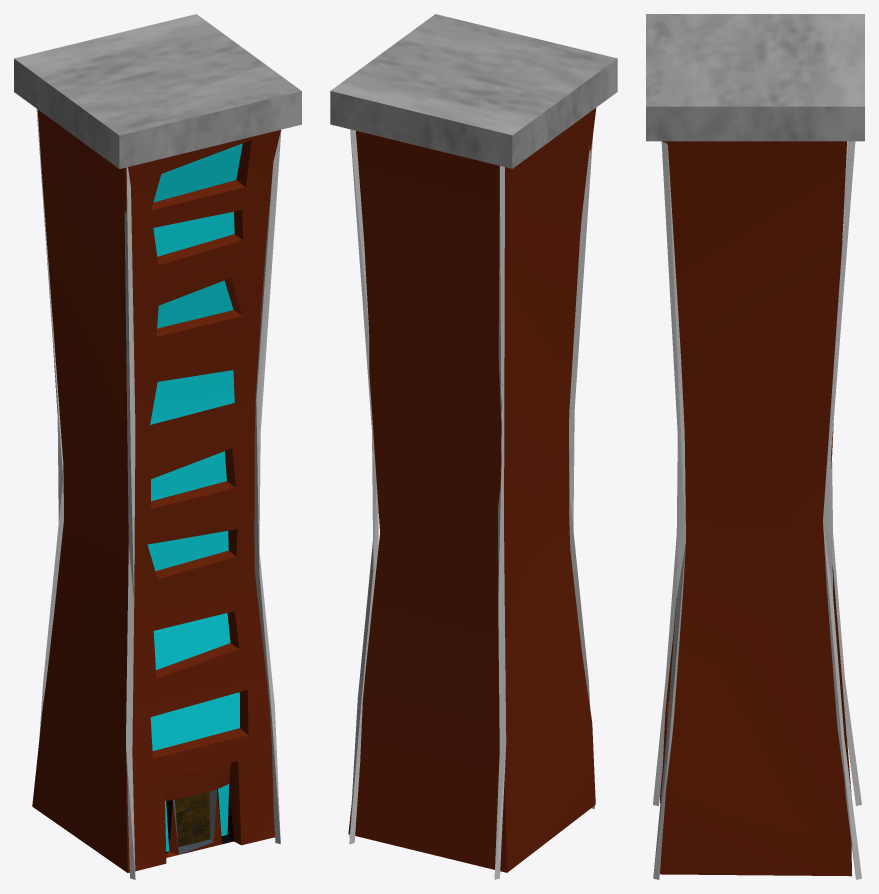
File: PredioAltoFino-VermelhoEscuroLOD1.fbx
3 renders of one model, left to right at view 1: azimuth 30°, elevation 25°; view 2: azimuth 150°, elevation 25°; view 3: azimuth 270°, elevation 25°, orthographic. The views are drawn at different scales.
Parts seen in each view (by area): view 1: PredioAltoFinoLOD1; view 2: PredioAltoFinoLOD1; view 3: PredioAltoFinoLOD1.
Part boxes in pixels (x1,y1,x2,y2): PredioAltoFinoLOD1: [14, 14, 301, 879]; PredioAltoFinoLOD1: [330, 14, 617, 879]; PredioAltoFinoLOD1: [646, 14, 864, 879].
Size of the model in its own units: 635 by 2498 by 635.
